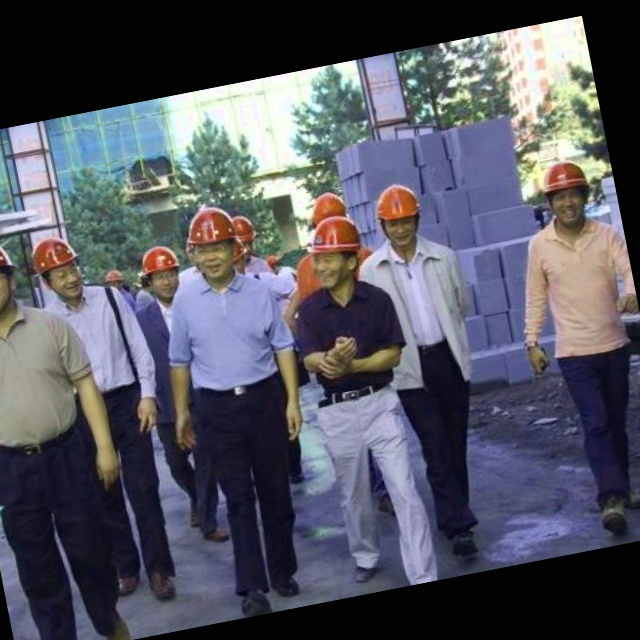Con_Casco: (371, 181, 427, 252), (0, 233, 23, 325)
Sin_Chaleco: (522, 213, 640, 356), (162, 266, 284, 404)
